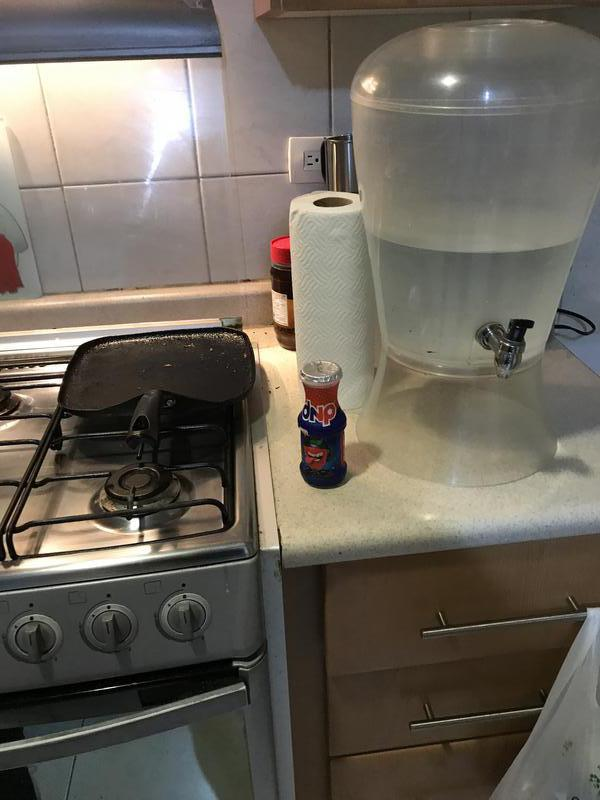danup: (299, 362, 352, 489)
